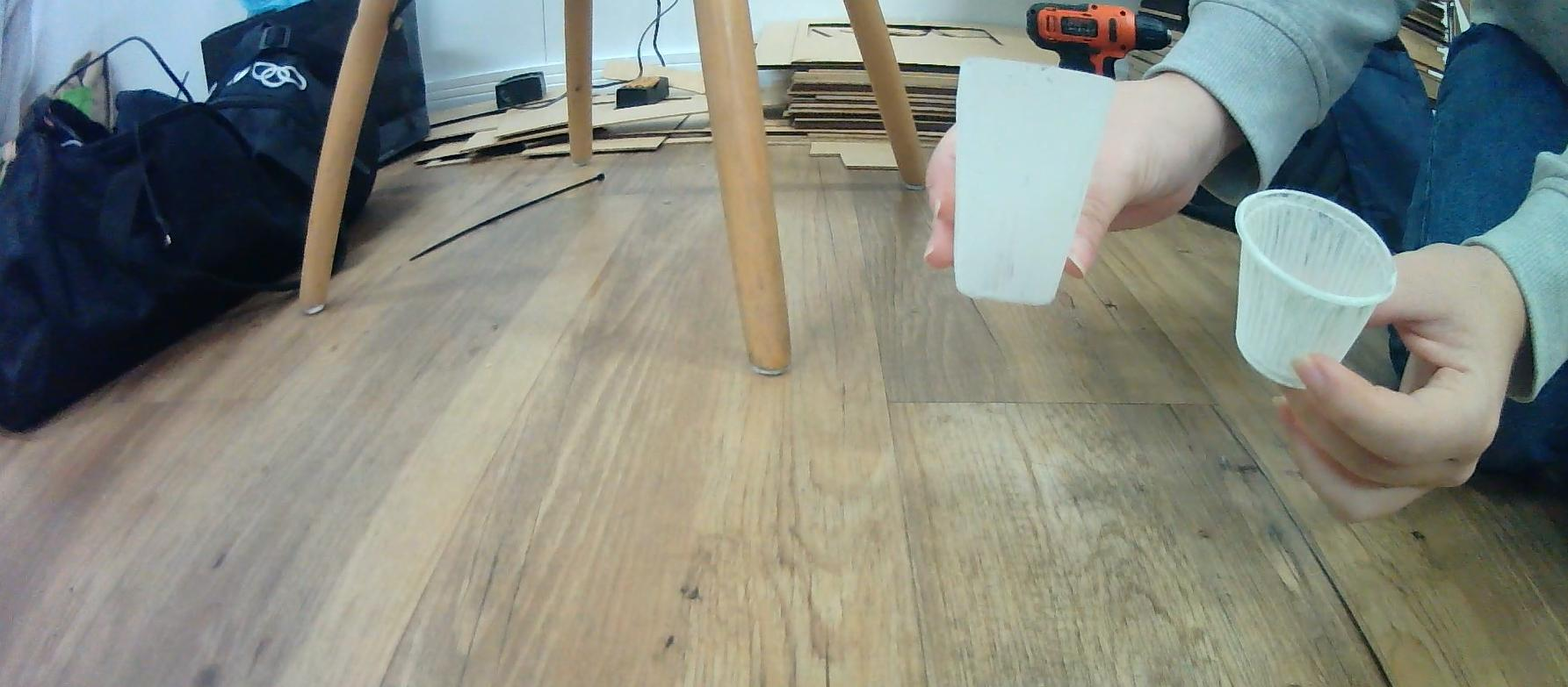erva_daninha: (950, 56, 1116, 310)
planta: (1233, 190, 1398, 390)
